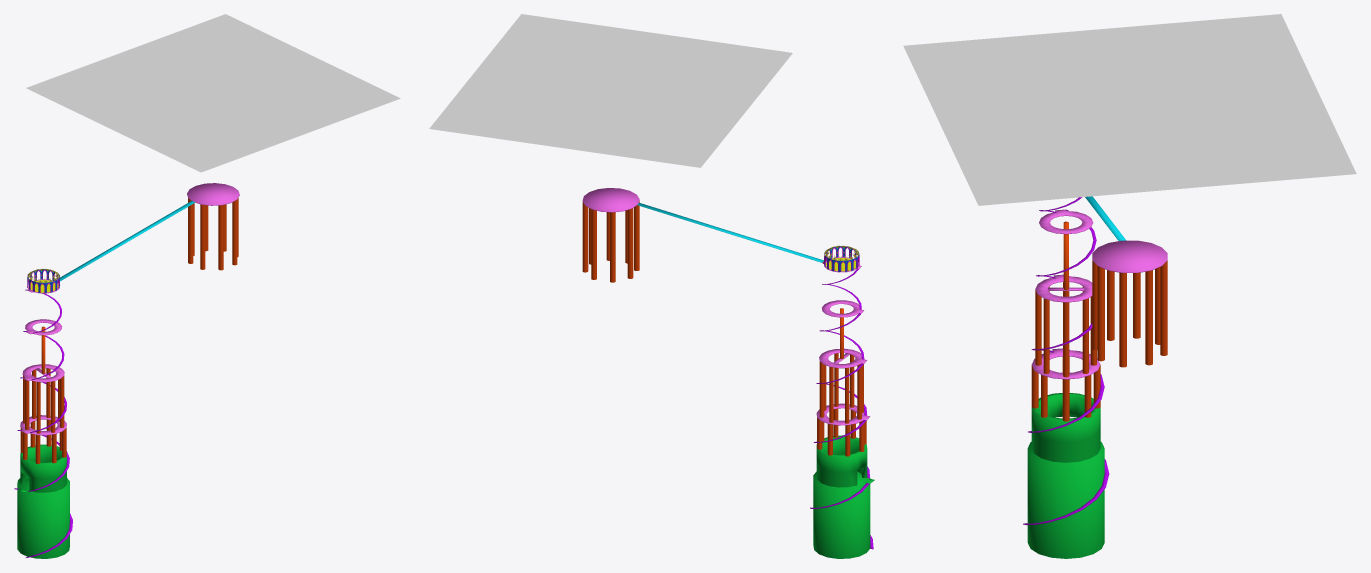
The model's file is tou3.fbx.
3 views of the same model, side by side, from view 1: azimuth 30°, elevation 25°; view 2: azimuth 150°, elevation 25°; view 3: azimuth 270°, elevation 25° (orthographic). The views are drawn at different scales.
Visible parts, largest first — view 1: mahouzin, naka1, naka2, tennbann5, saka, tennbann4; view 2: mahouzin, naka1, naka2, tennbann5, saka, tennbann4; view 3: mahouzin, naka1, naka2, tennbann5, tennbann4, hasira21, hasira20, hasira22, hasira4, tennbann3, hasira24.
Boxes of the visible parts, <box> form: mahouzin: <box>26,14,400,172</box>; naka1: <box>17,478,69,558</box>; naka2: <box>20,444,66,492</box>; tennbann5: <box>20,183,239,435</box>; saka: <box>60,201,194,281</box>; tennbann4: <box>22,364,64,382</box>; mahouzin: <box>429,14,792,167</box>; naka1: <box>813,471,874,558</box>; naka2: <box>816,435,867,487</box>; tennbann5: <box>582,188,869,425</box>; saka: <box>637,202,823,262</box>; tennbann4: <box>819,348,866,368</box>; mahouzin: <box>903,14,1356,205</box>; naka1: <box>1027,441,1104,558</box>; naka2: <box>1031,393,1100,462</box>; tennbann5: <box>1031,240,1167,379</box>; tennbann4: <box>1035,274,1092,302</box>; hasira21: <box>1119,272,1126,367</box>; hasira20: <box>1145,270,1152,365</box>; hasira22: <box>1097,266,1104,361</box>; hasira4: <box>1160,261,1167,355</box>; tennbann3: <box>1039,209,1093,234</box>; hasira24: <box>1107,270,1114,340</box>.
Bounding box in the file's own units: 1533 × 1630 × 1176.
